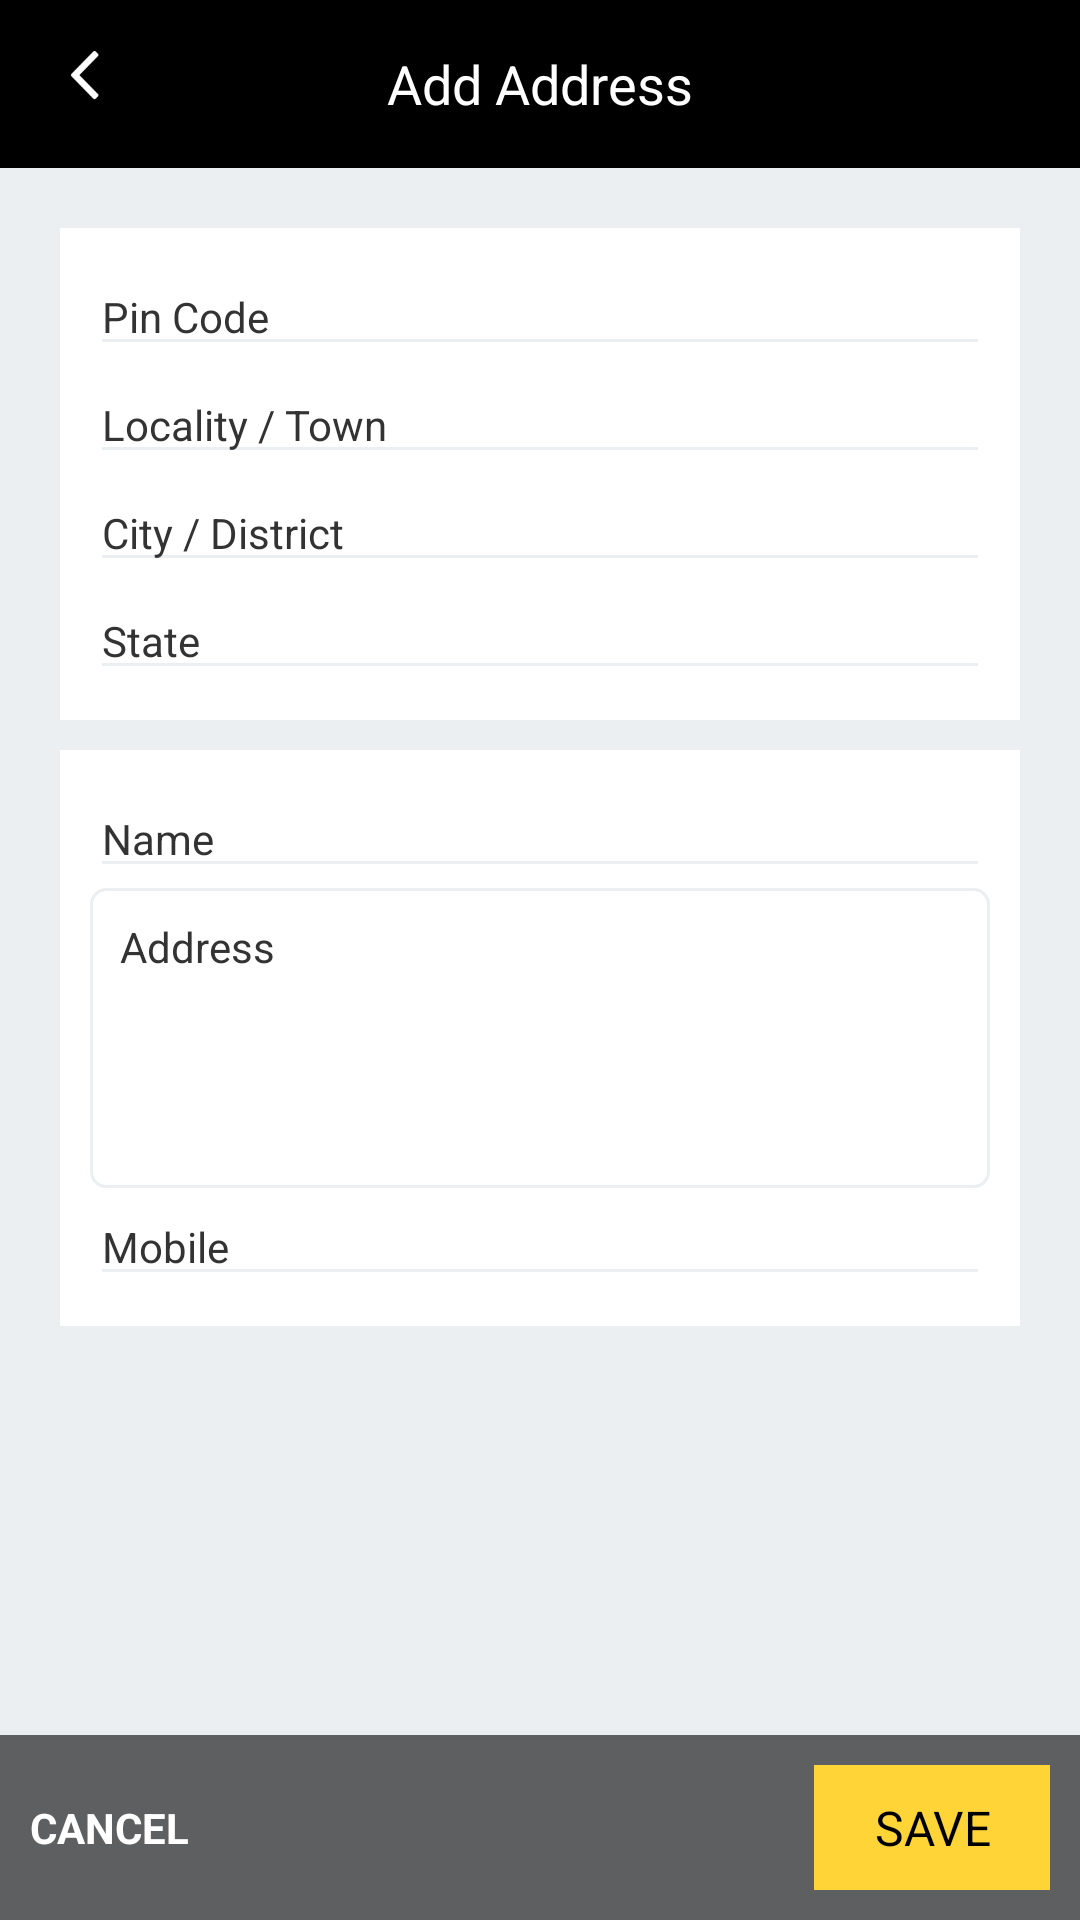

Where icons sit on this 1080w x 1920h app screen, as [x1, y1, x2, y2]:
back: [71, 51, 99, 100]
